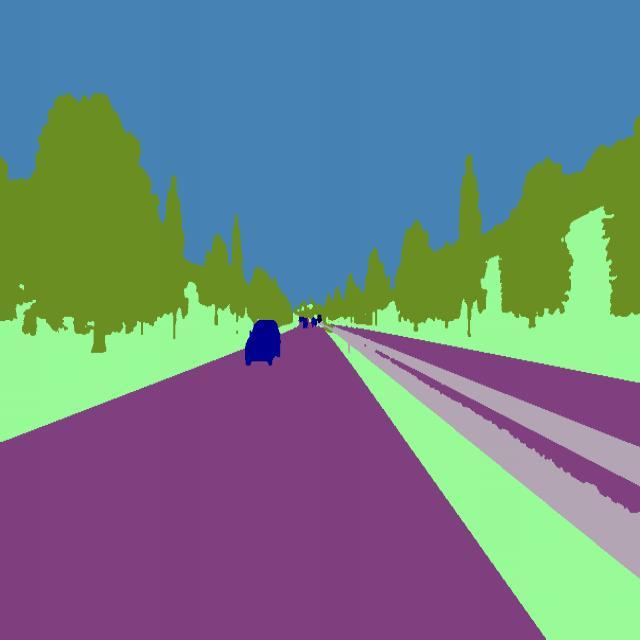safe: (244, 316, 284, 370), (298, 316, 310, 331), (309, 315, 318, 331)
